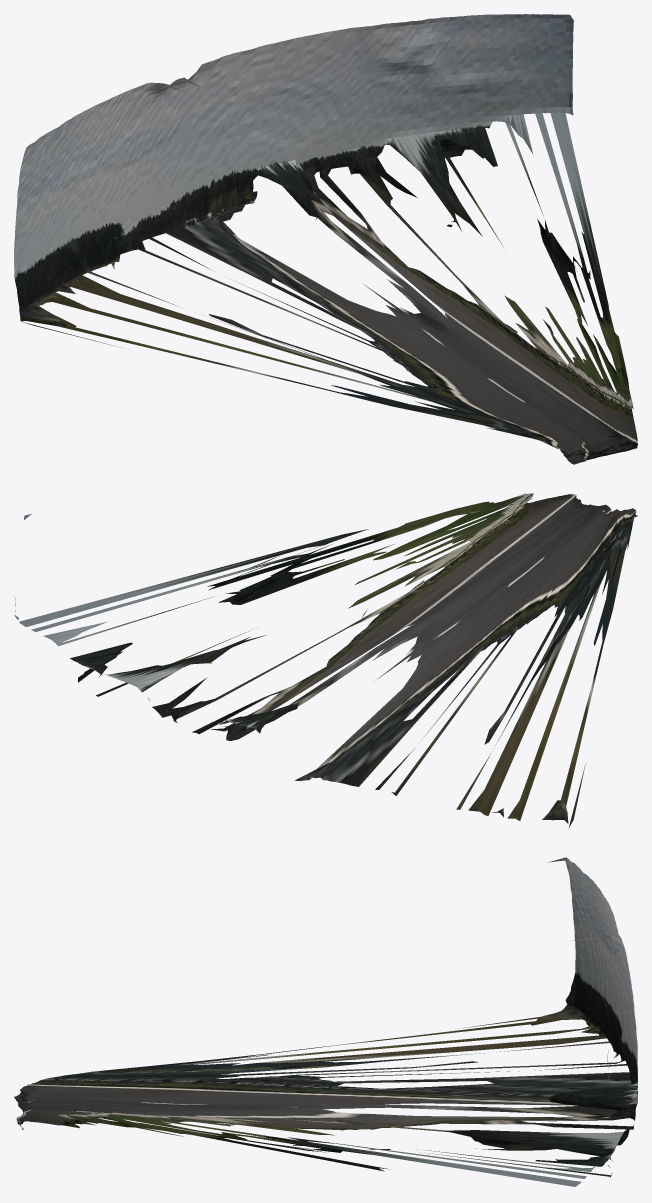
The picture shows the model from 3 angles, top to bottom: view 1: azimuth 30°, elevation 25°; view 2: azimuth 150°, elevation 25°; view 3: azimuth 270°, elevation 25°; orthographic projection. The views are drawn at different scales.
Parts seen in each view (by area): view 1: defaultobject; view 2: defaultobject; view 3: defaultobject.
Part boxes in pixels (box(x1,y1,x2,y2)): defaultobject: box(14, 14, 637, 464); defaultobject: box(14, 493, 637, 828); defaultobject: box(14, 857, 637, 1186).
Size of the model in its own units: 41.06 by 13.21 by 44.4.
Materials: 1 (1 with a texture image).
